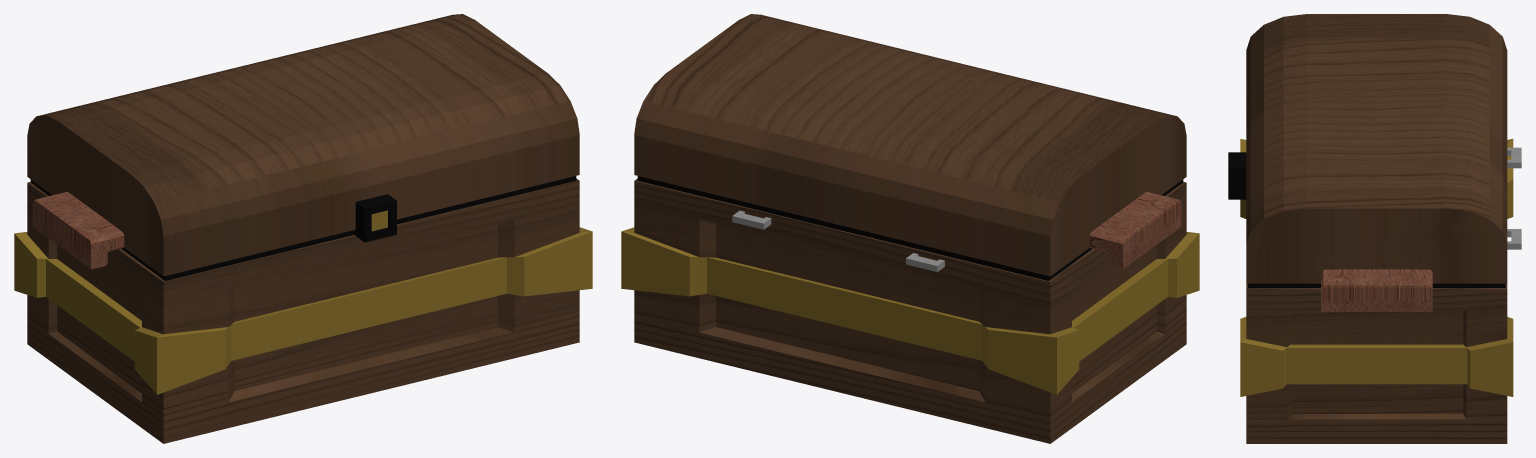
The model's file is Chest.fbx.
3 renders of one model, left to right at view 1: azimuth 30°, elevation 25°; view 2: azimuth 150°, elevation 25°; view 3: azimuth 270°, elevation 25°, orthographic. The views are drawn at different scales.
Parts seen in each view (by area): view 1: Cube.002; view 2: Cube.002; view 3: Cube.002.
Part boxes in pixels (bbox=[...]): Cube.002: bbox=[14, 14, 592, 443]; Cube.002: bbox=[621, 14, 1199, 443]; Cube.002: bbox=[1228, 14, 1521, 443].
Size of the model in its own units: 615 by 299 by 337.
Materials: 6 (3 with a texture image).
